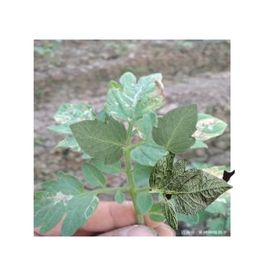liriomyza: (192, 116, 228, 140), (55, 104, 93, 124), (120, 86, 141, 112), (45, 189, 76, 206), (204, 165, 224, 178)
